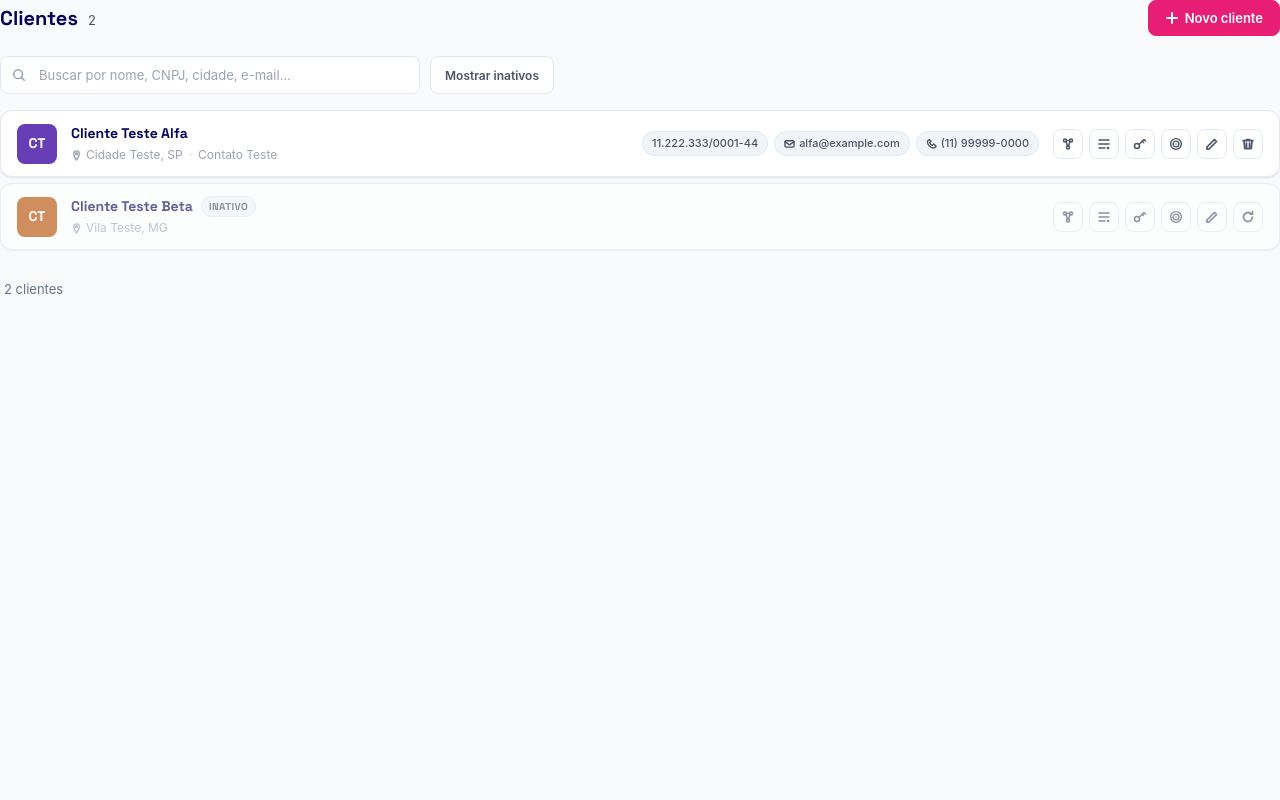
Scenario: ClientsPage › CNPJ repetido (409): avisa, fecha o form e filtra a lista pelo cliente existente
Expected: the text "Cliente Teste Alfa" is shown, [71, 124, 188, 142]
Click the button "Novo cliente": (1214, 18) [1148, 0, 1279, 36]
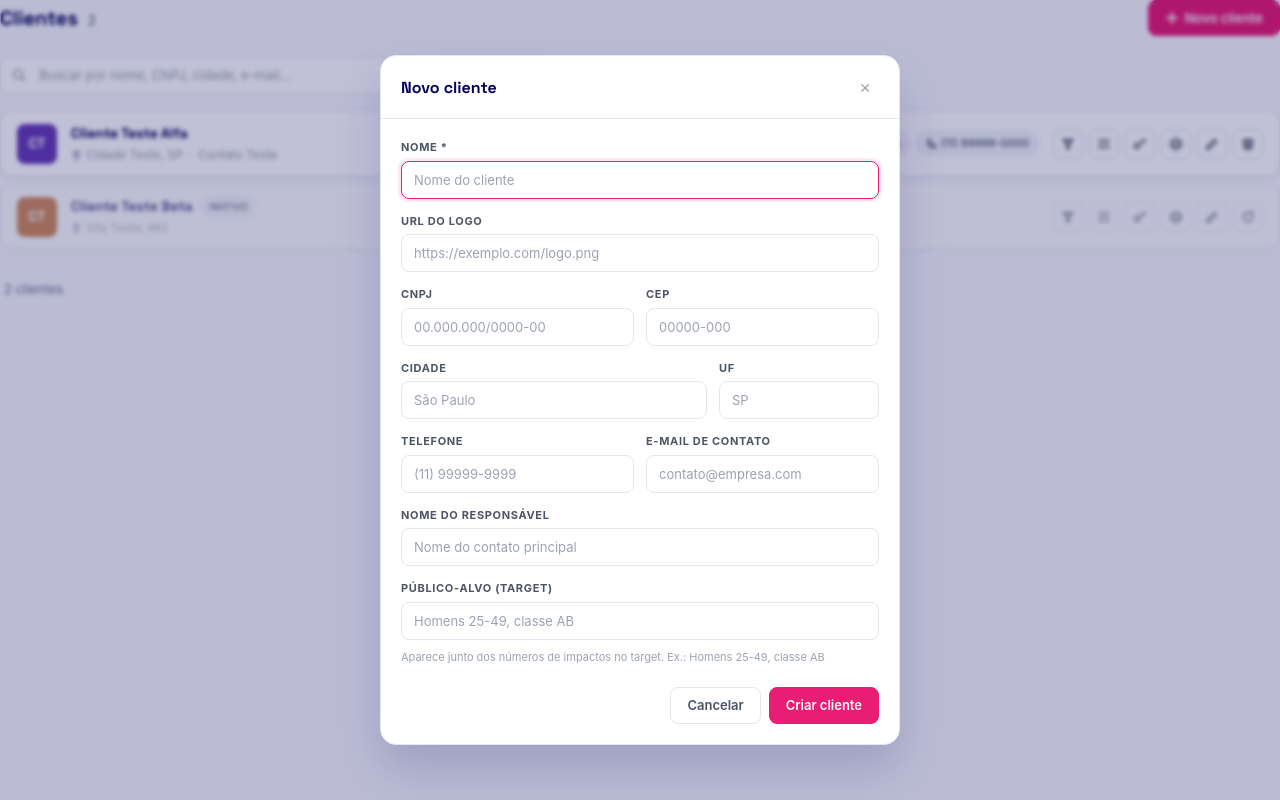
In the field with placeholder "Nome do cliente": (640, 180) [401, 161, 879, 199], type "Duplicado Teste"
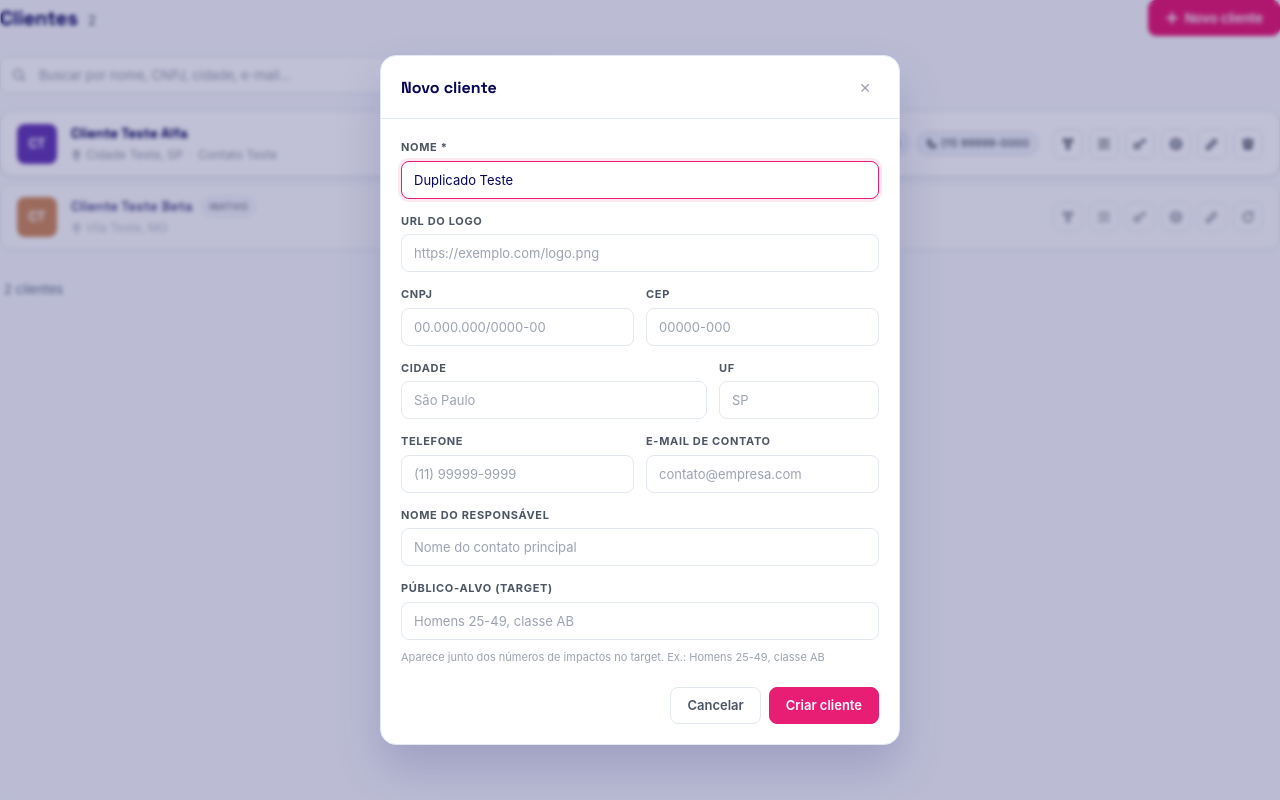
Click the button "Criar cliente": (824, 706) [769, 687, 879, 724]
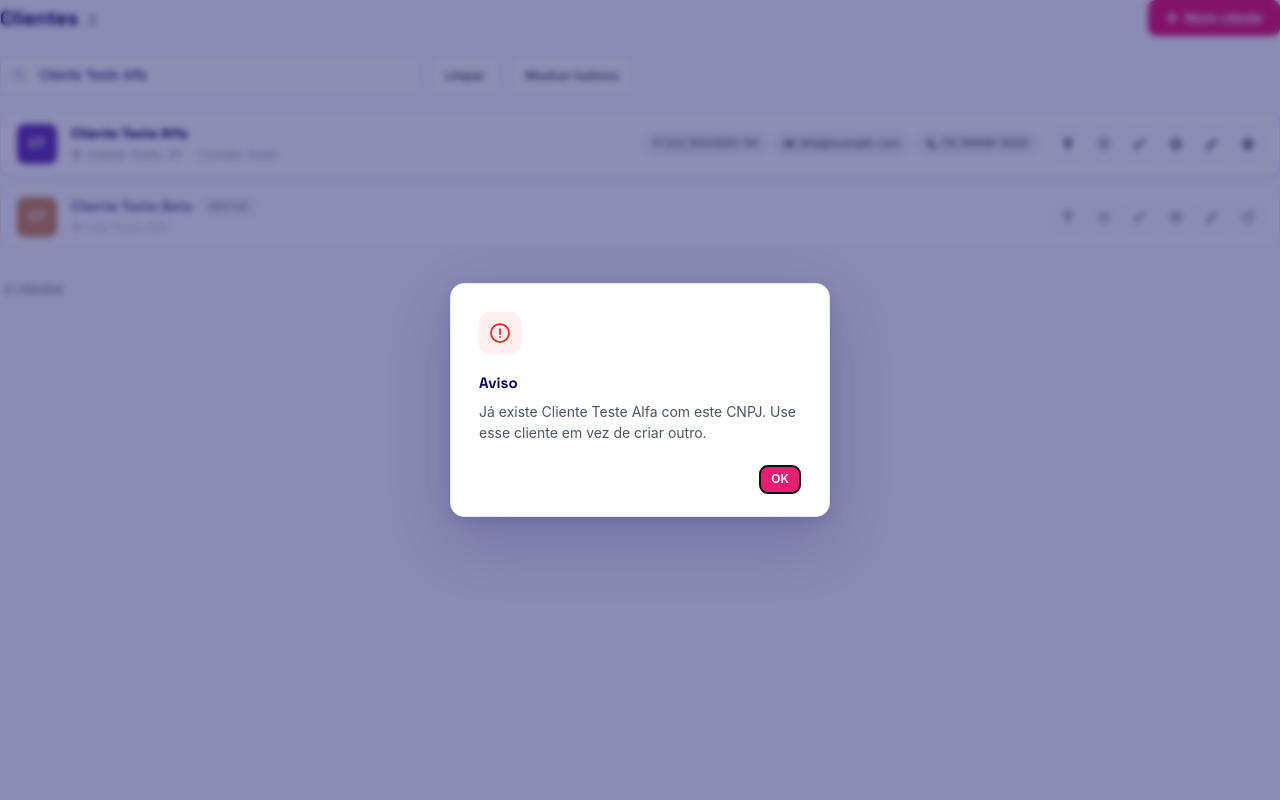
Expected: the text "Já existe Cliente Teste Alfa com este CNPJ. Use esse cliente em vez de criar outro." is shown, [479, 403, 796, 441]
Expected: the element with class "modal" is gone
Expected: the field with placeholder "Buscar por nome, CNPJ, cidade, e-mail…" holds "Cliente Teste Alfa", [0, 56, 420, 94]
